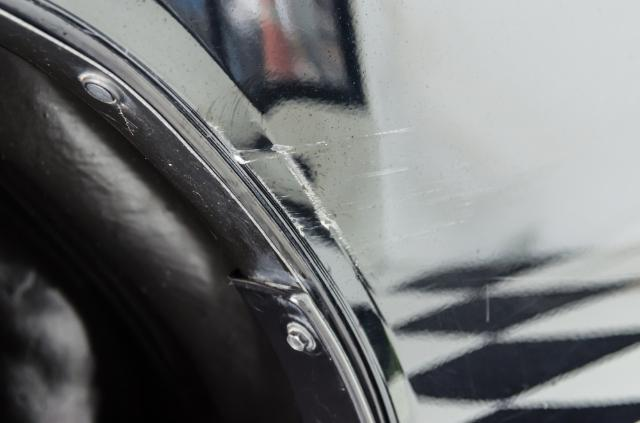scratch: (229, 124, 413, 255)
